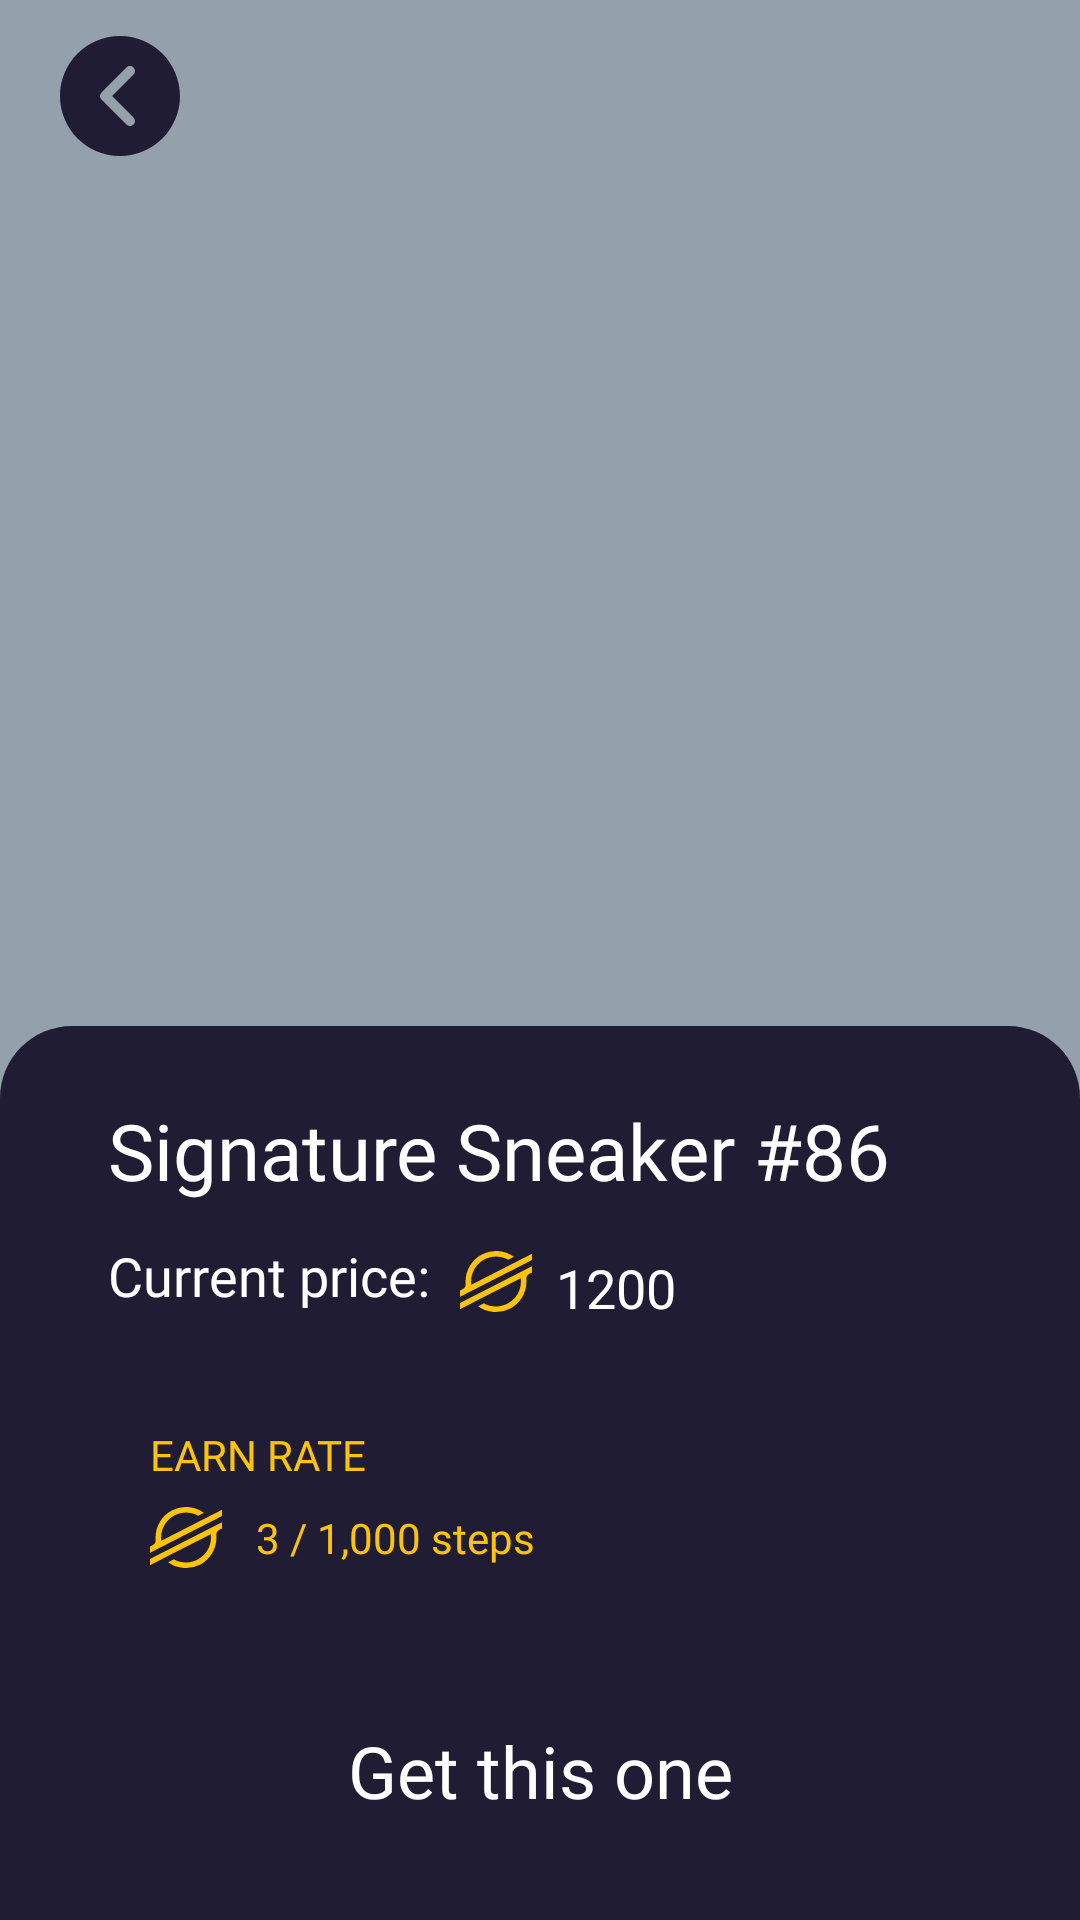

Where to tap for icons on this 1080px x 1920px app screen, as (x=x, y=y):
previous: (x=120, y=96)
